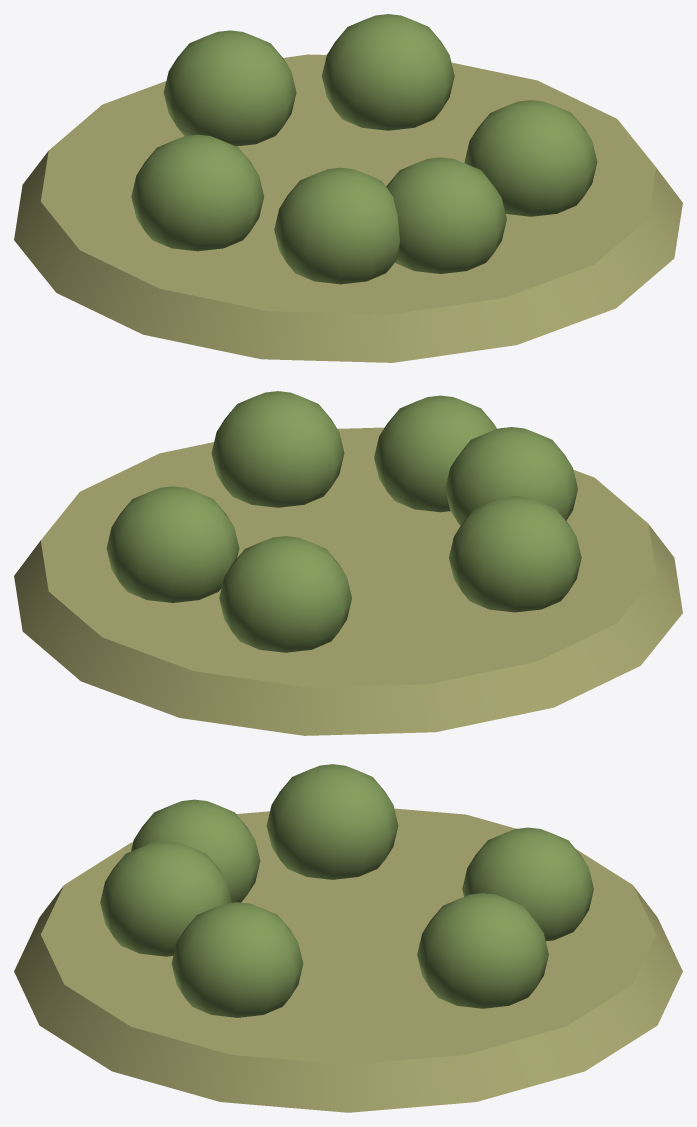
File: fixture-lion-scent-v01.glb
3 renders of one model, top to bottom at view 1: azimuth 30°, elevation 25°; view 2: azimuth 150°, elevation 25°; view 3: azimuth 270°, elevation 25°, orthographic.
Parts seen in each view (by area): view 1: post, portion-1, portion-2, portion-4, portion-5, portion-3, portion-0; view 2: post, portion-4, portion-2, portion-3, portion-1, portion-0, portion-5; view 3: post, portion-2, portion-1, portion-3, portion-0, portion-4, portion-5.
Boxes of the visible parts, x1=… form: post: x1=14, y1=54, x2=682, y2=362; portion-1: x1=322, y1=14, x2=454, y2=130; portion-2: x1=131, y1=134, x2=264, y2=251; portion-4: x1=163, y1=30, x2=296, y2=146; portion-5: x1=274, y1=167, x2=399, y2=284; portion-3: x1=464, y1=100, x2=597, y2=216; portion-0: x1=386, y1=157, x2=506, y2=273; post: x1=14, y1=427, x2=682, y2=735; portion-4: x1=219, y1=536, x2=351, y2=652; portion-2: x1=449, y1=495, x2=581, y2=612; portion-3: x1=211, y1=391, x2=344, y2=507; portion-1: x1=106, y1=486, x2=239, y2=602; portion-0: x1=374, y1=395, x2=496, y2=512; portion-5: x1=445, y1=427, x2=577, y2=525; post: x1=14, y1=808, x2=682, y2=1112; portion-2: x1=266, y1=764, x2=398, y2=879; portion-1: x1=417, y1=893, x2=548, y2=1008; portion-3: x1=171, y1=902, x2=303, y2=1017; portion-0: x1=100, y1=841, x2=231, y2=956; portion-4: x1=462, y1=827, x2=593, y2=941; portion-5: x1=131, y1=799, x2=260, y2=902.
Size of the model in its own units: 0.66 by 0.135 by 0.66.
